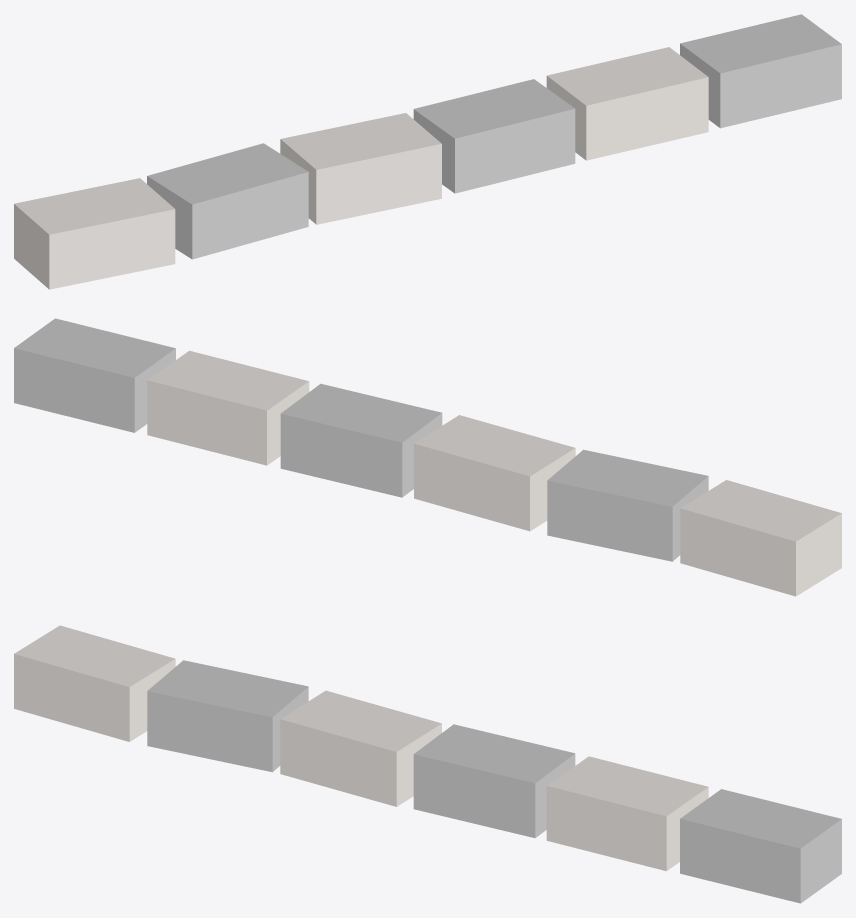
The model's file is SM_Sacos_v2_Hilera6_LOD1.fbx.
The picture shows the model from 3 angles, top to bottom: view 1: azimuth 30°, elevation 25°; view 2: azimuth 150°, elevation 25°; view 3: azimuth 330°, elevation 25°; orthographic projection.
Visible parts, largest first — view 1: SM_farp_betera_v17_LOD1; view 2: SM_farp_betera_v17_LOD1; view 3: SM_farp_betera_v17_LOD1.
Boxes of the visible parts, bbox=[...] form: SM_farp_betera_v17_LOD1: bbox=[14, 14, 841, 289]; SM_farp_betera_v17_LOD1: bbox=[14, 318, 841, 596]; SM_farp_betera_v17_LOD1: bbox=[14, 625, 841, 903].
Bounding box in the file's own units: 3.91 × 0.26 × 0.394.
